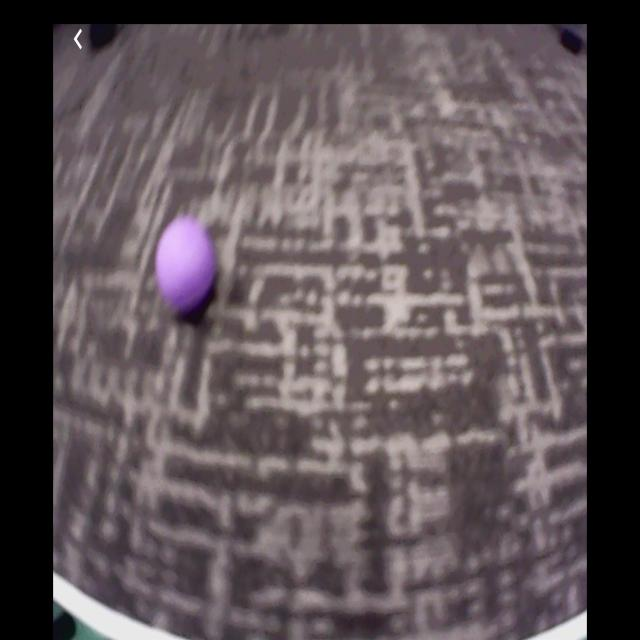ball: (158, 222, 214, 312)
